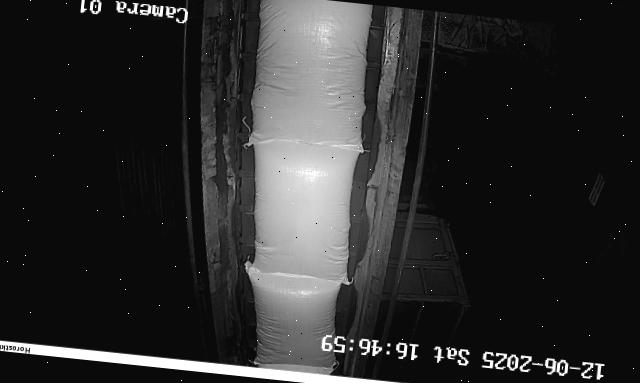bag: (247, 0, 379, 154), (238, 136, 364, 284), (234, 261, 344, 375)
